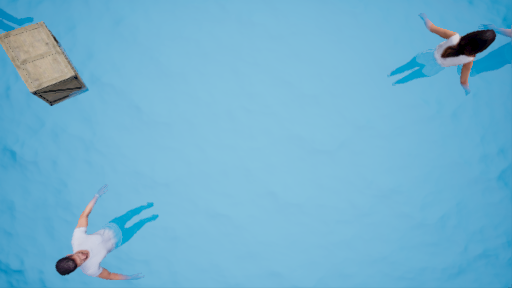person: (49, 179, 160, 288), (386, 6, 497, 98)
